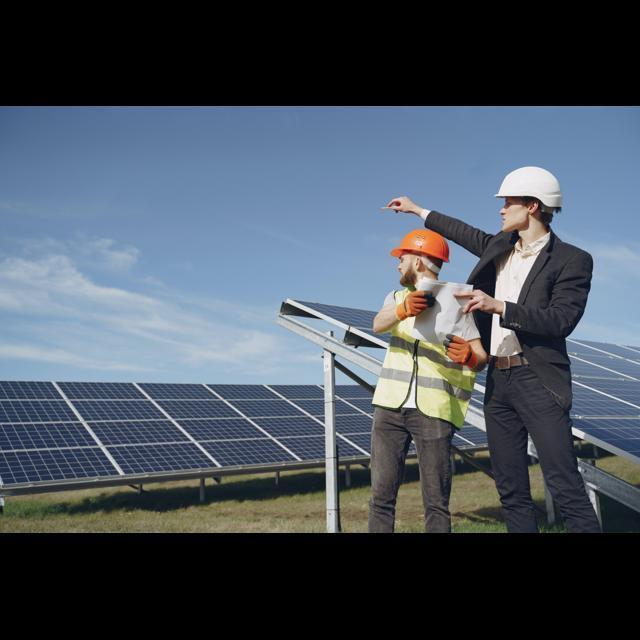Capacete: (495, 166, 561, 207), (390, 229, 448, 261)
Colete: (372, 317, 475, 427)
